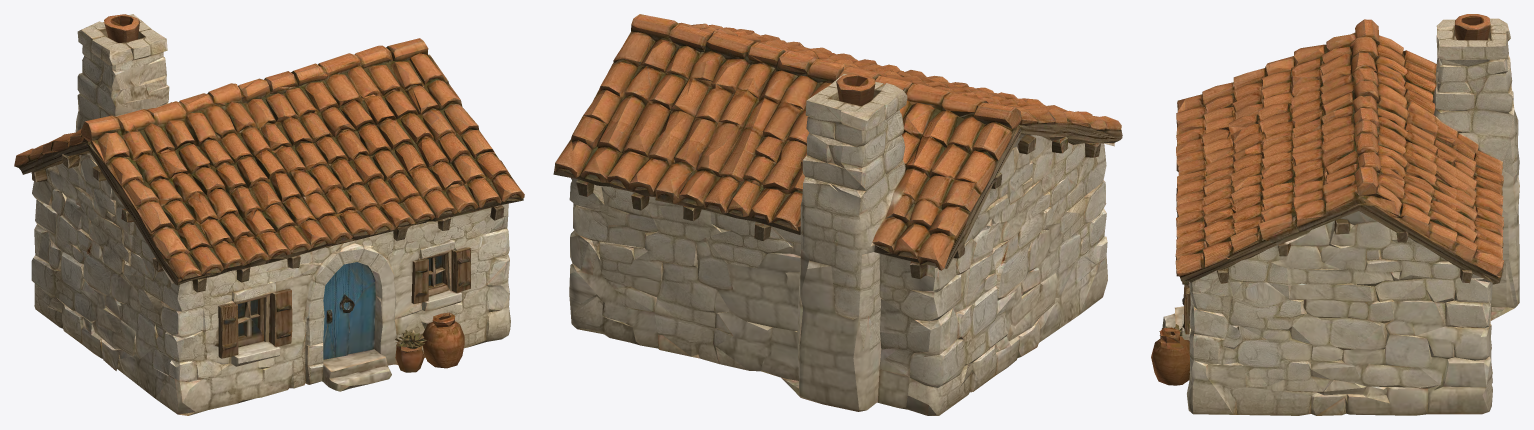
The model's file is poi_south_cottage.glb.
3 renders of one model, left to right at view 1: azimuth 30°, elevation 25°; view 2: azimuth 150°, elevation 25°; view 3: azimuth 270°, elevation 25°, orthographic. The views are drawn at different scales.
Visible parts, largest first — view 1: poi_south_cottage; view 2: poi_south_cottage; view 3: poi_south_cottage.
Part boxes in pixels (x1,y1,x2,y2): poi_south_cottage: (14,14,524,415); poi_south_cottage: (553,14,1122,415); poi_south_cottage: (1151,14,1519,415).
Size of the model in its own units: 10 by 7.48 by 9.07.
Materials: 1 (1 with a texture image).
